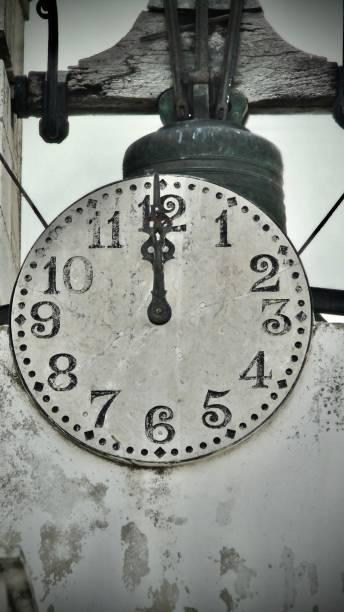clock: (14, 179, 314, 472)
